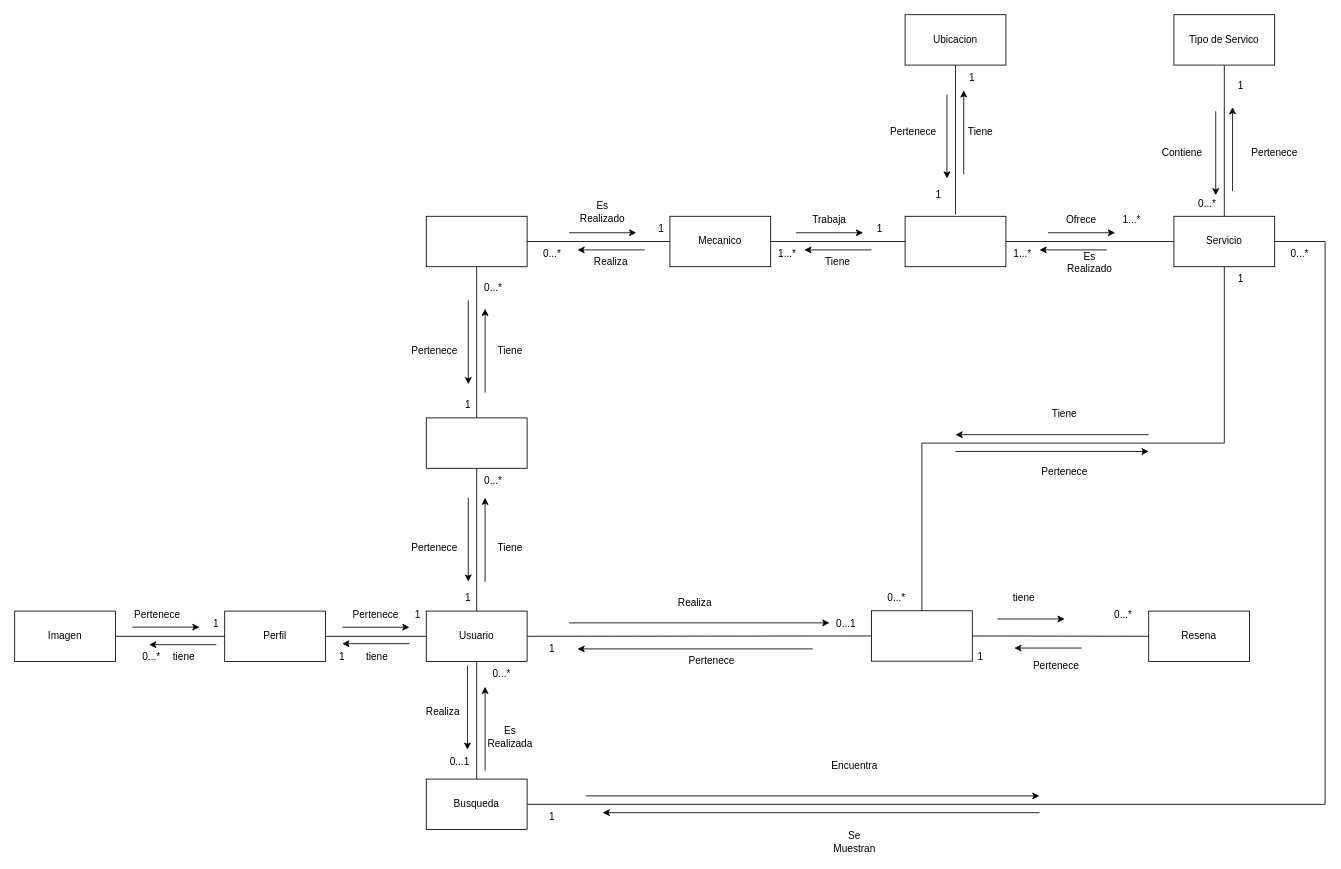
Image size: 1341x869. Some labels were removed from this diagram. The shapes that lost their labels are listed below. From the top down, each one's centre as x and y in pixels, then its label:
At (476,241): "Diagnostico".
At (955,241): "Estableciemiento".
At (476,442): "Motocicleta".
At (921,635): "Calificacion".
